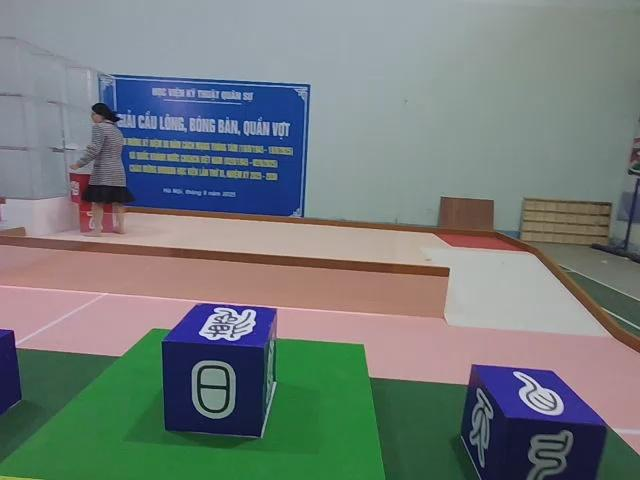R2 Fake Blue: (460, 367, 608, 480), (161, 303, 278, 442), (0, 326, 23, 438)
